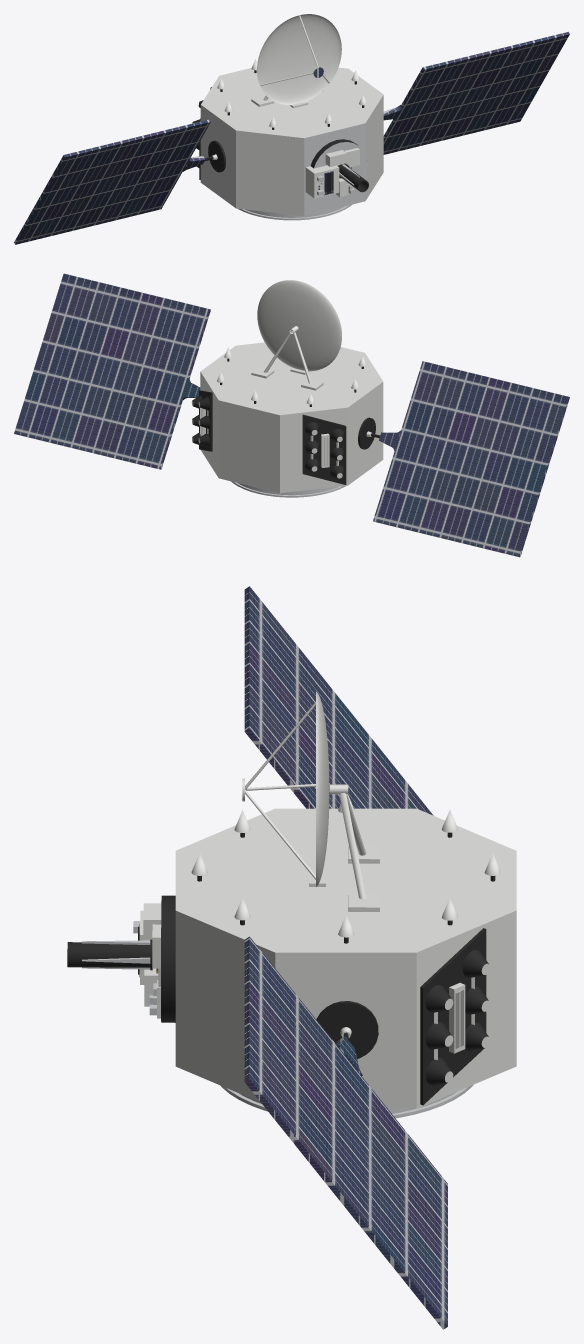
Rendered from dscovr.glb.
The picture shows the model from 3 angles, top to bottom: view 1: azimuth 30°, elevation 25°; view 2: azimuth 150°, elevation 25°; view 3: azimuth 270°, elevation 25°; orthographic projection. The views are drawn at different scales.
Visible parts, largest first — view 1: Layer_0; view 2: Layer_0; view 3: Layer_0.
Boxes of the visible parts, x1,y1,x2,y2 form: Layer_0: [14, 14, 569, 244]; Layer_0: [14, 273, 569, 557]; Layer_0: [67, 586, 516, 1329].
Size of the model in its own units: 3.64 by 1.32 by 1.4.
5 materials, 1 textured.
